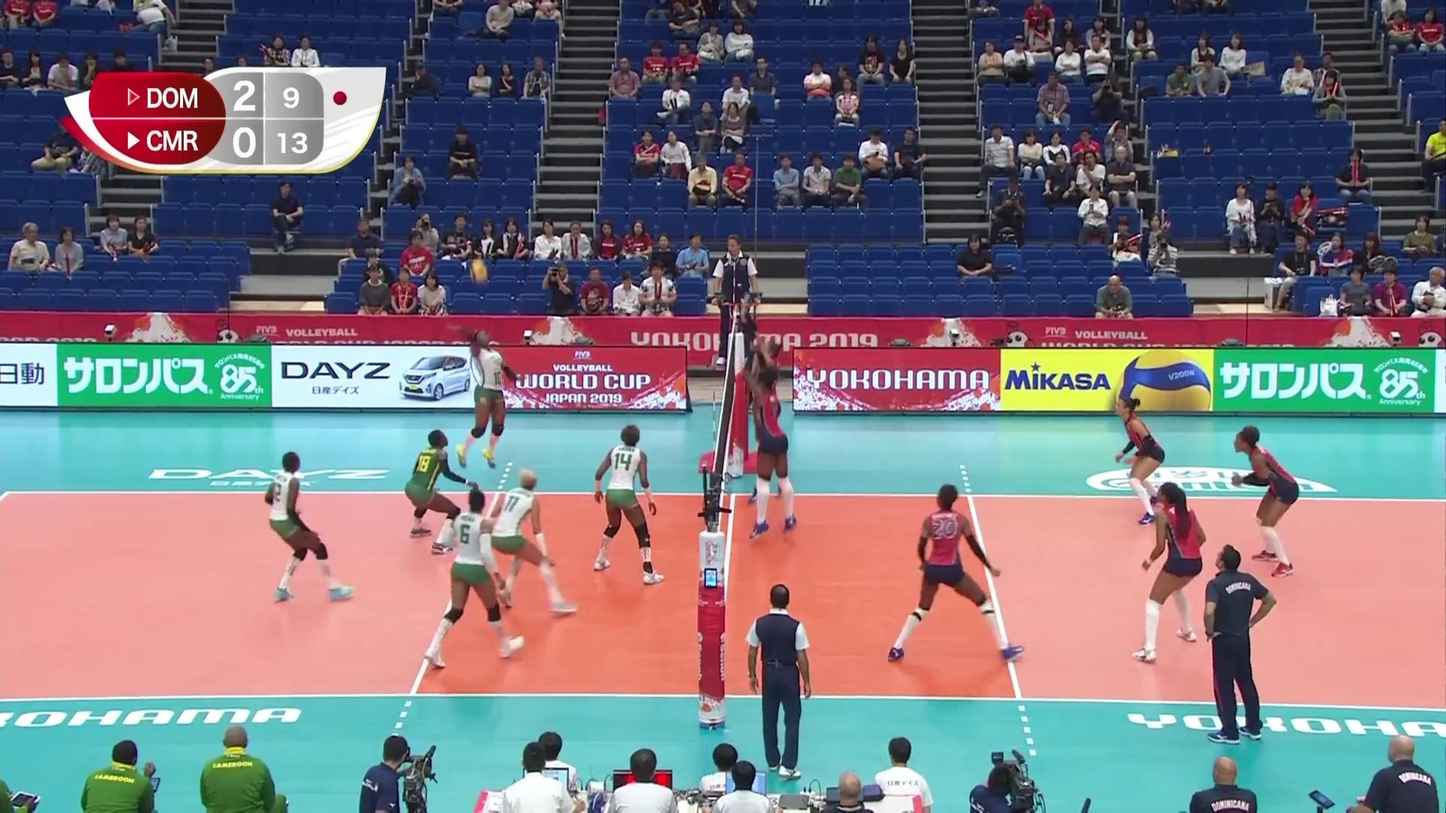player: (891, 484, 1026, 664), (425, 487, 526, 671), (261, 451, 356, 601), (1132, 482, 1208, 663), (492, 467, 580, 614), (591, 425, 667, 582), (455, 322, 526, 469), (1230, 427, 1300, 575), (743, 363, 799, 535), (404, 430, 476, 555), (749, 327, 790, 502), (1111, 396, 1166, 525)
refree: (745, 583, 813, 781), (712, 235, 761, 362)
